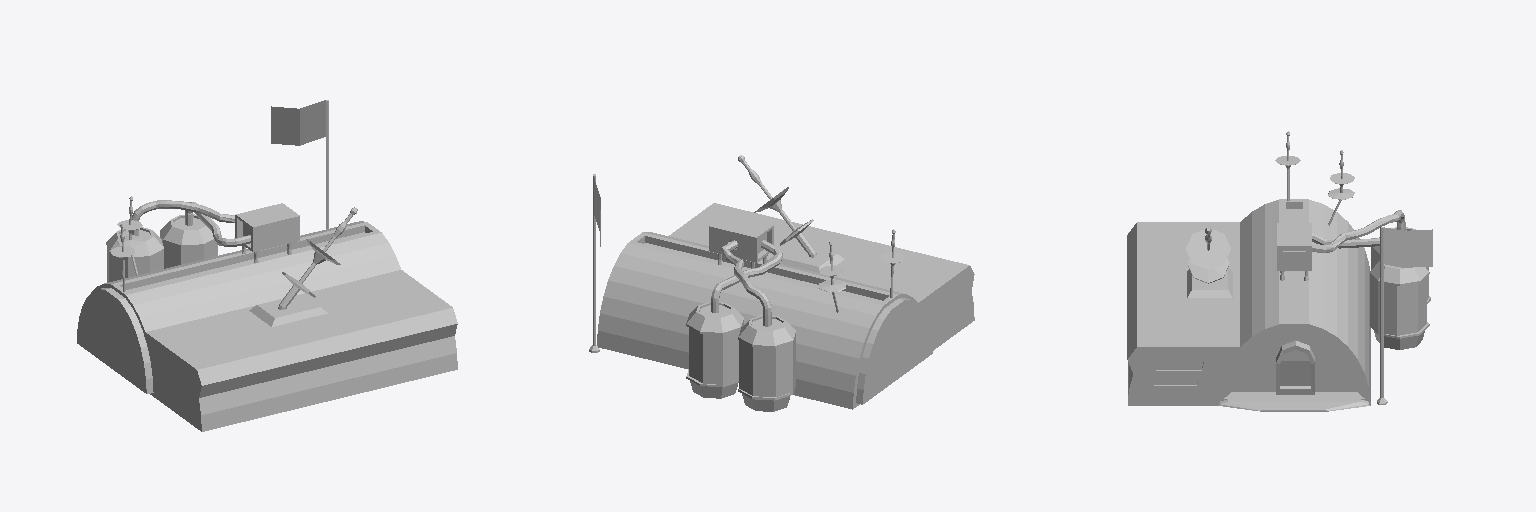
The model's file is Astra_Settlement_Mesh.obj.
3 views of the same model, side by side, from view 1: azimuth 30°, elevation 25°; view 2: azimuth 150°, elevation 25°; view 3: azimuth 270°, elevation 25° (orthographic).
Parts seen in each view (by area): view 1: StarForgerOutpost; view 2: StarForgerOutpost; view 3: StarForgerOutpost.
Part boxes in pixels (x1,y1,x2,y2): StarForgerOutpost: (77, 100, 457, 431); StarForgerOutpost: (589, 155, 974, 411); StarForgerOutpost: (1127, 131, 1432, 411).
Size of the model in its own units: 20.73 by 12.51 by 19.54.